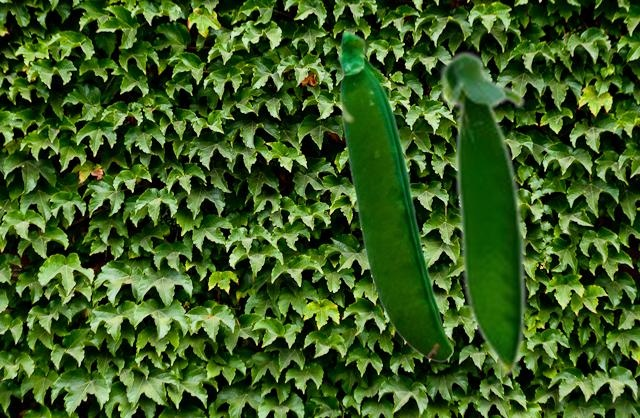pea: (337, 29, 452, 361), (438, 49, 526, 381)
